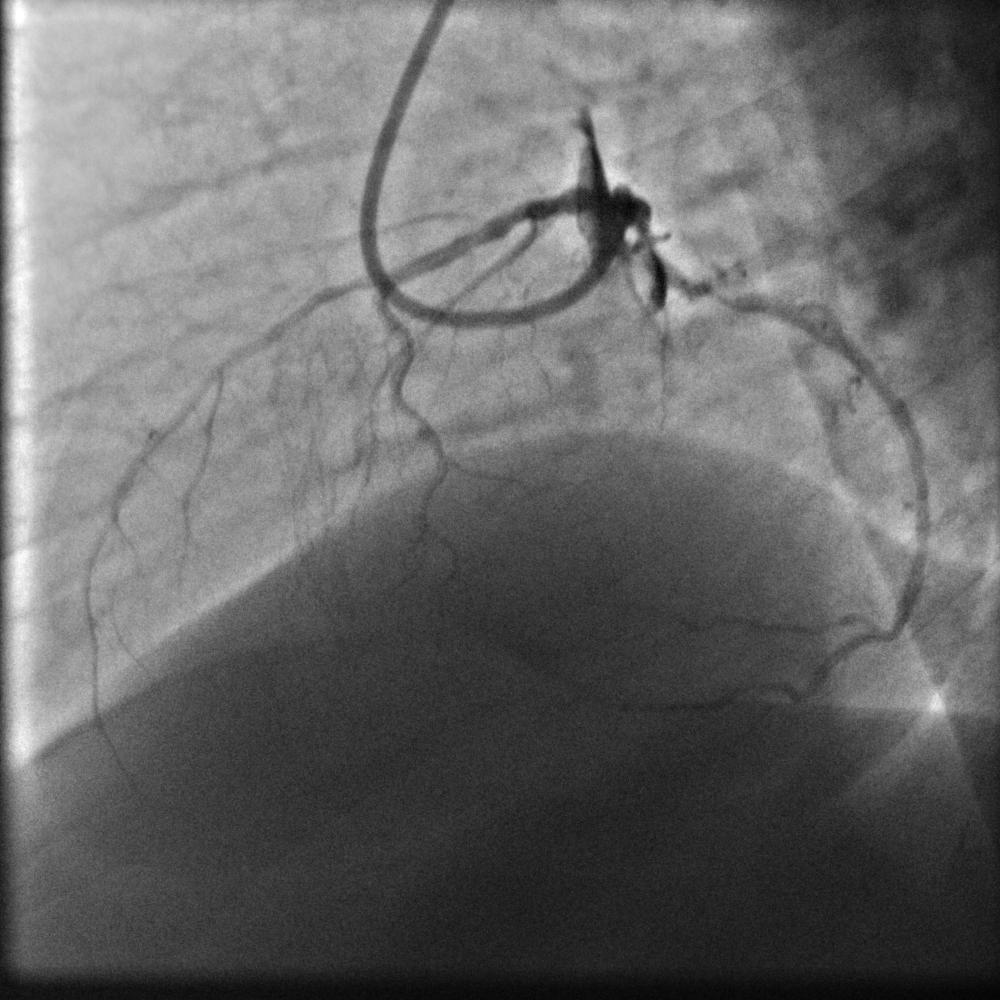Stenosis: (710, 282, 740, 311)
